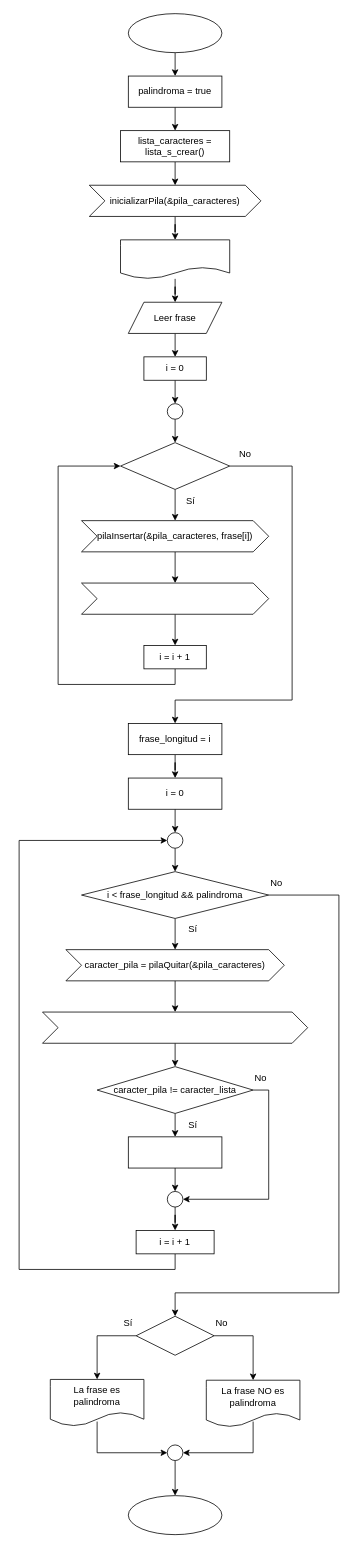
This 359x1548 diagram has some shape labels left out. Each missing label, with the box of its shape:
caracter_lista = lista_s_eliminar_inicio(lista_caracteres): (42, 1011, 308, 1043)
Fin: (128, 1495, 222, 1535)
frase[i] != '\0': (120, 442, 230, 489)
Inicio: (128, 13, 222, 53)
Introduce una frase:: (120, 239, 230, 279)
lista_s_insertar_fin(&lista_caracteres, frase[i]): (81, 582, 269, 614)
palindroma: (135, 1315, 214, 1355)
palindroma = false: (128, 1136, 222, 1168)
